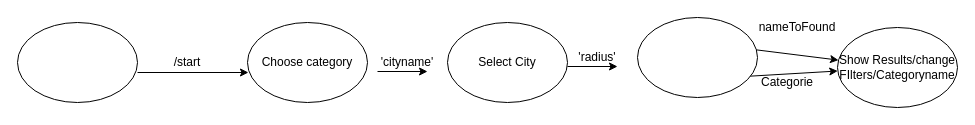
This 975x125 diagram has some shape labels left out. Each missing label, with the centre of its shape:
"Initial" belongs at [77,62].
"Select radius" belongs at [697,57].
